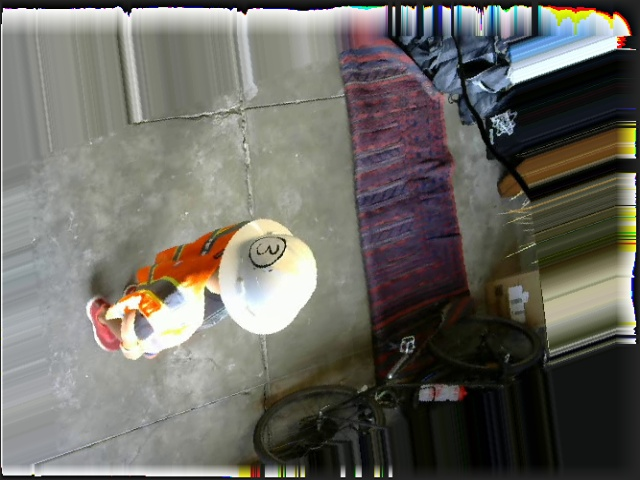three: (247, 229, 288, 271)
